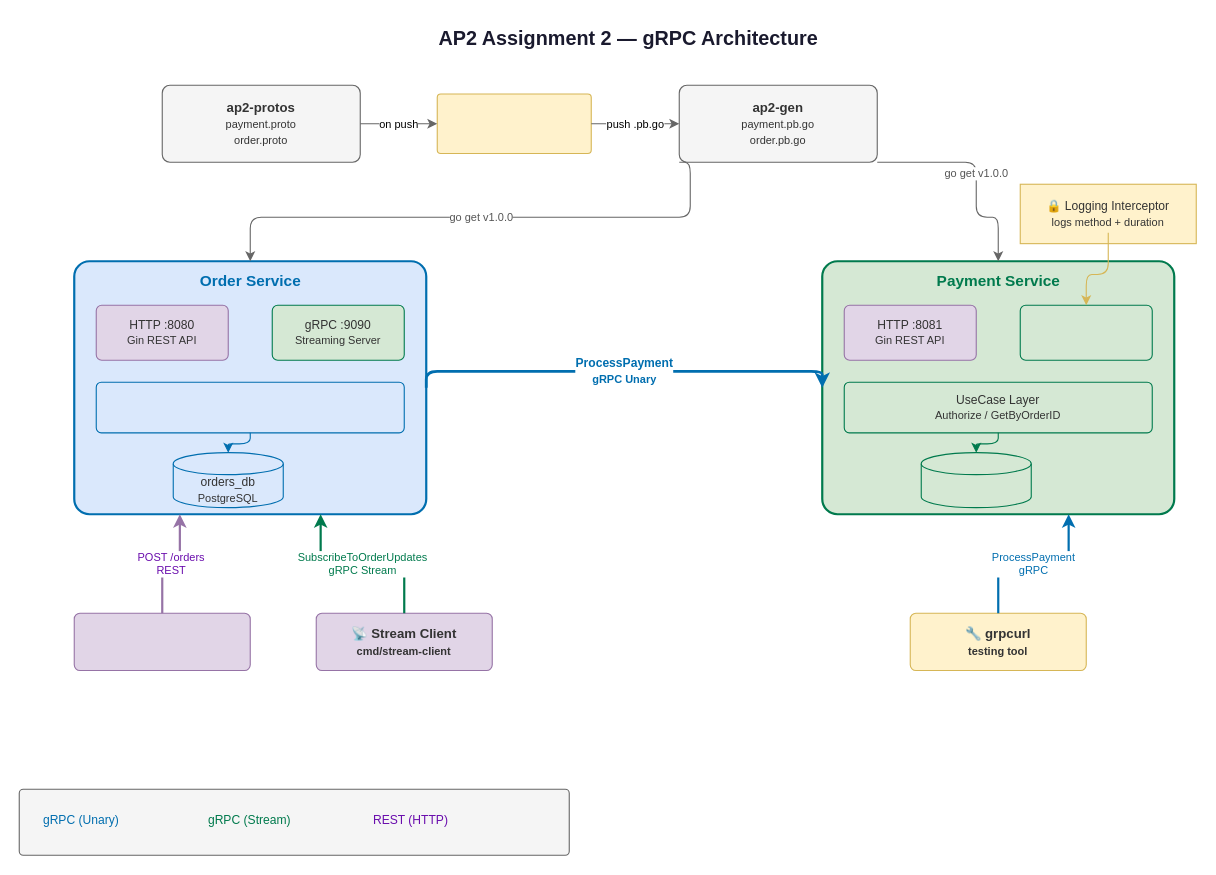
Some shapes in this 1216 by 875 pixel diagram are drawn without their labels. Here are the shapes that lost their labels. From the top down, the centre of each, then its label:
the point at 513,123: GitHub Actions generate.yml
the point at 1085,332: gRPC :9091 + Logging Interceptor
the point at 249,407: UseCase Layer Create / Get / Cancel / UpdateStatus
the point at 975,480: payments_db PostgreSQL
the point at 161,641: 👤 User / Swagger
